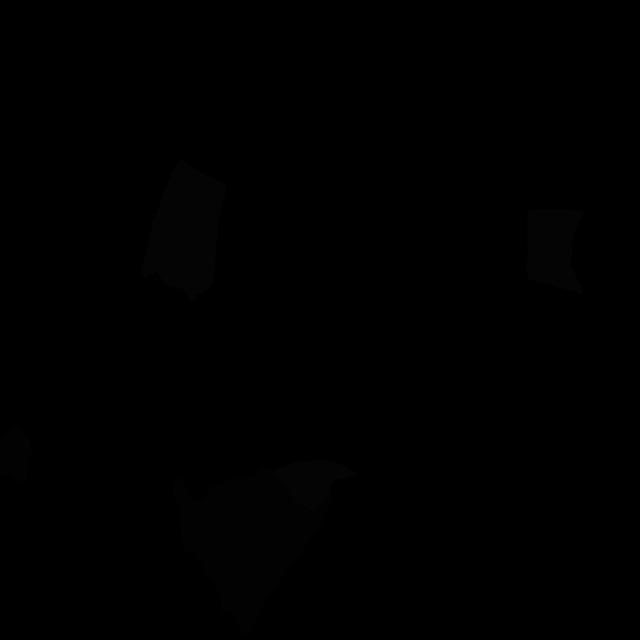cardboard: (173, 464, 332, 636), (0, 426, 33, 483)
soft_plastic: (141, 158, 226, 300), (526, 209, 585, 295), (272, 460, 358, 513)
